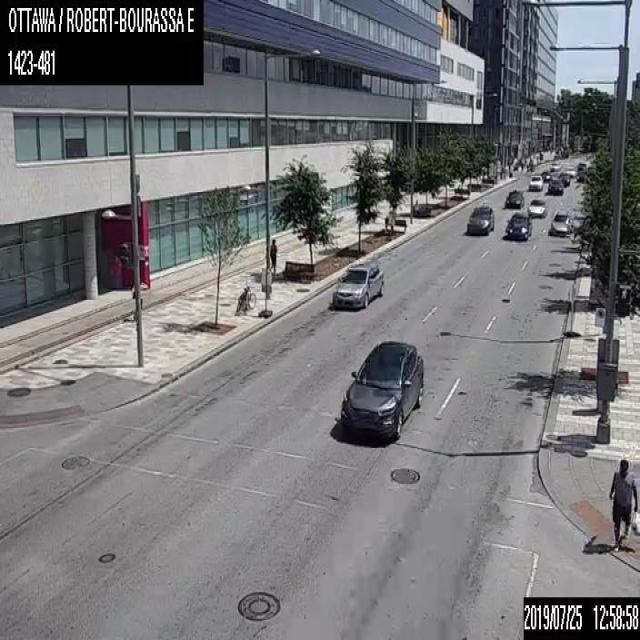pedestrian: (608, 459, 639, 549), (268, 237, 276, 275), (412, 198, 420, 214)
vehicle: (338, 339, 423, 440), (331, 260, 384, 309), (466, 204, 494, 235), (504, 211, 531, 240), (549, 209, 572, 235), (526, 198, 547, 217), (504, 189, 524, 207), (546, 179, 564, 195), (528, 175, 543, 189), (559, 173, 570, 186), (540, 170, 552, 180), (566, 165, 574, 177)
